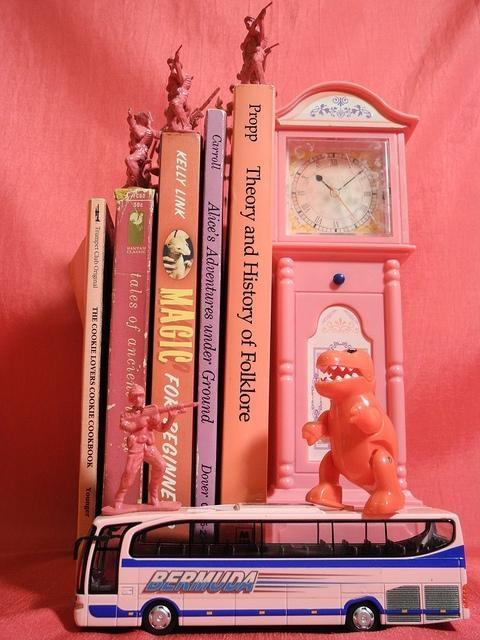bus: (78, 496, 468, 633)
